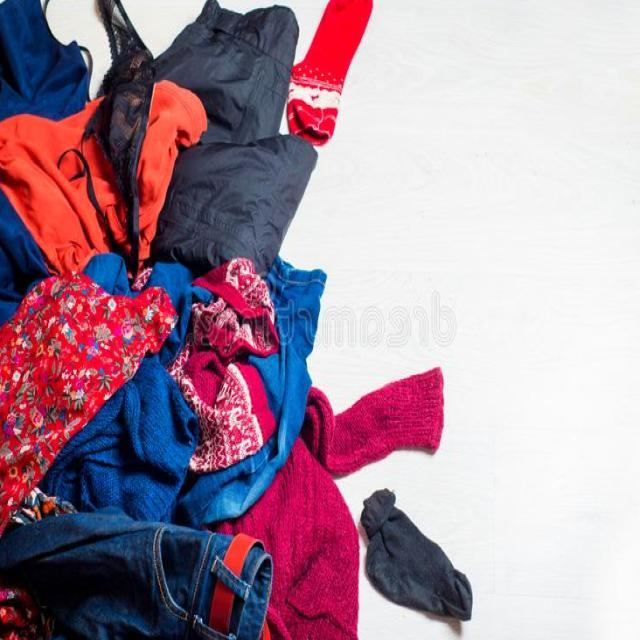clothes: (0, 18, 325, 639)
